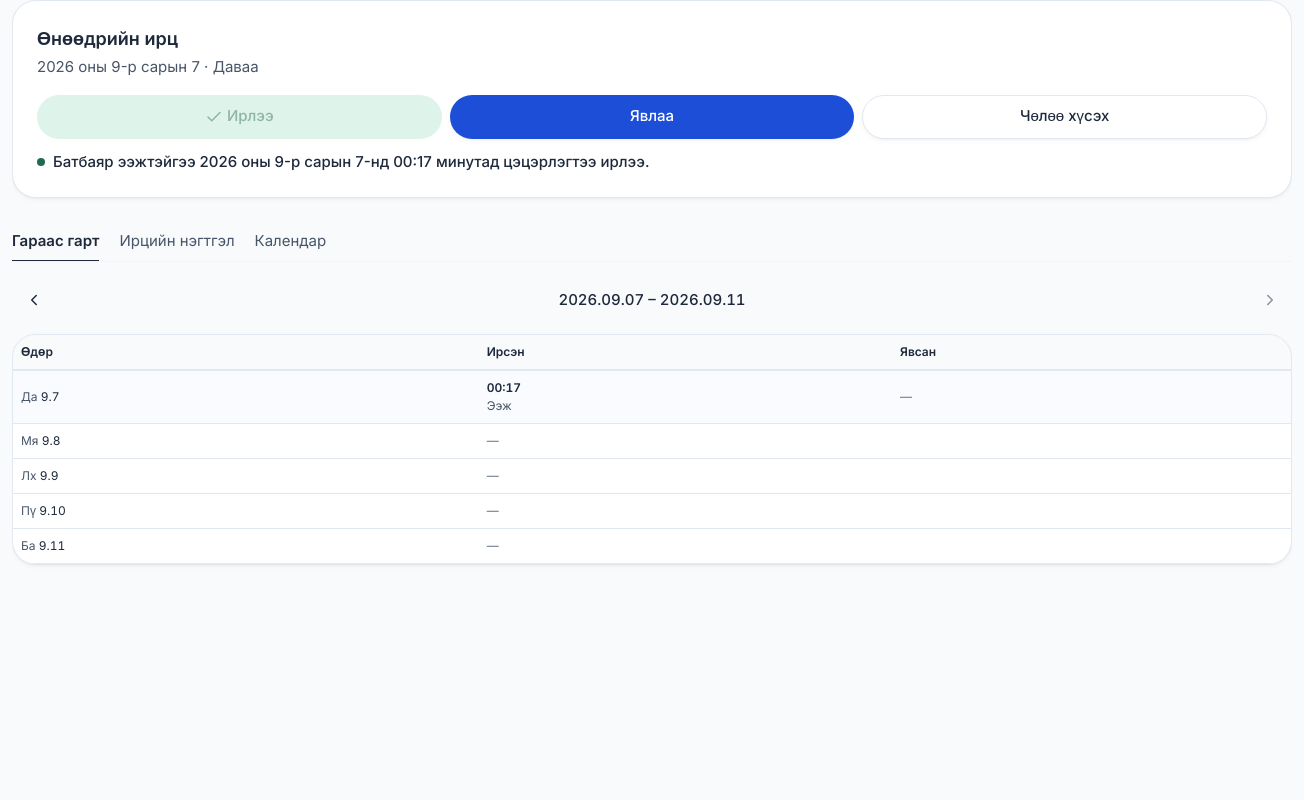
хүүхдийн ирцийн шинэ бүтэц › shows today's actions, the real summary, chart and colour calendar
Expected: the heading "Өнөөдрийн ирц" is shown, [37,28,178,49]
Expected: the text "2026 оны 9-р сарын 7 · Даваа" is shown, [37,57,259,76]
Click the tab "Ирцийн нэгтгэл" at coordinates (177, 242), box [120,222,235,262]
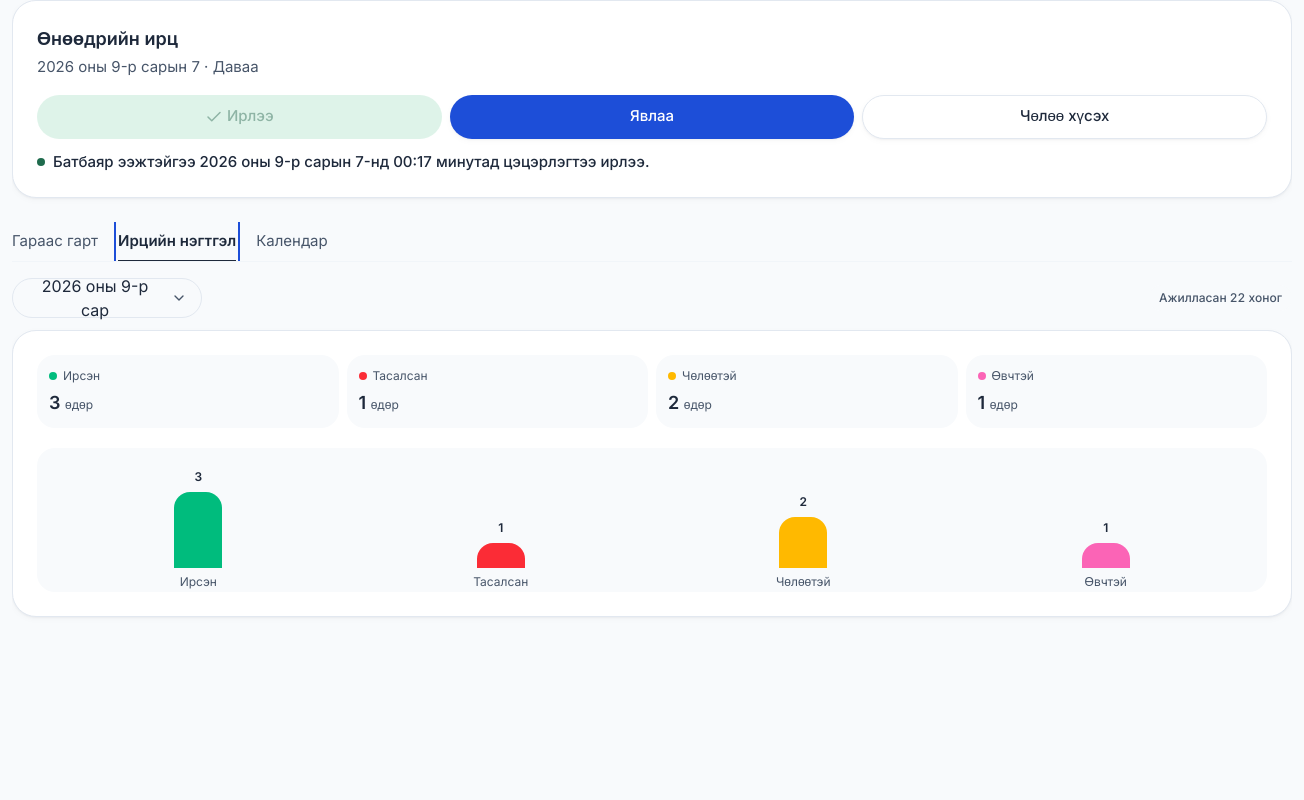
Expected: the text "Ирсэн" is shown, [49,368,100,383]
Expected: the text "Тасалсан" is shown, [358,368,428,383]
Expected: the text "Чөлөөтэй" is shown, [668,368,737,383]
Click the tab "Календар" at coordinates (292, 242), box [256,222,328,262]
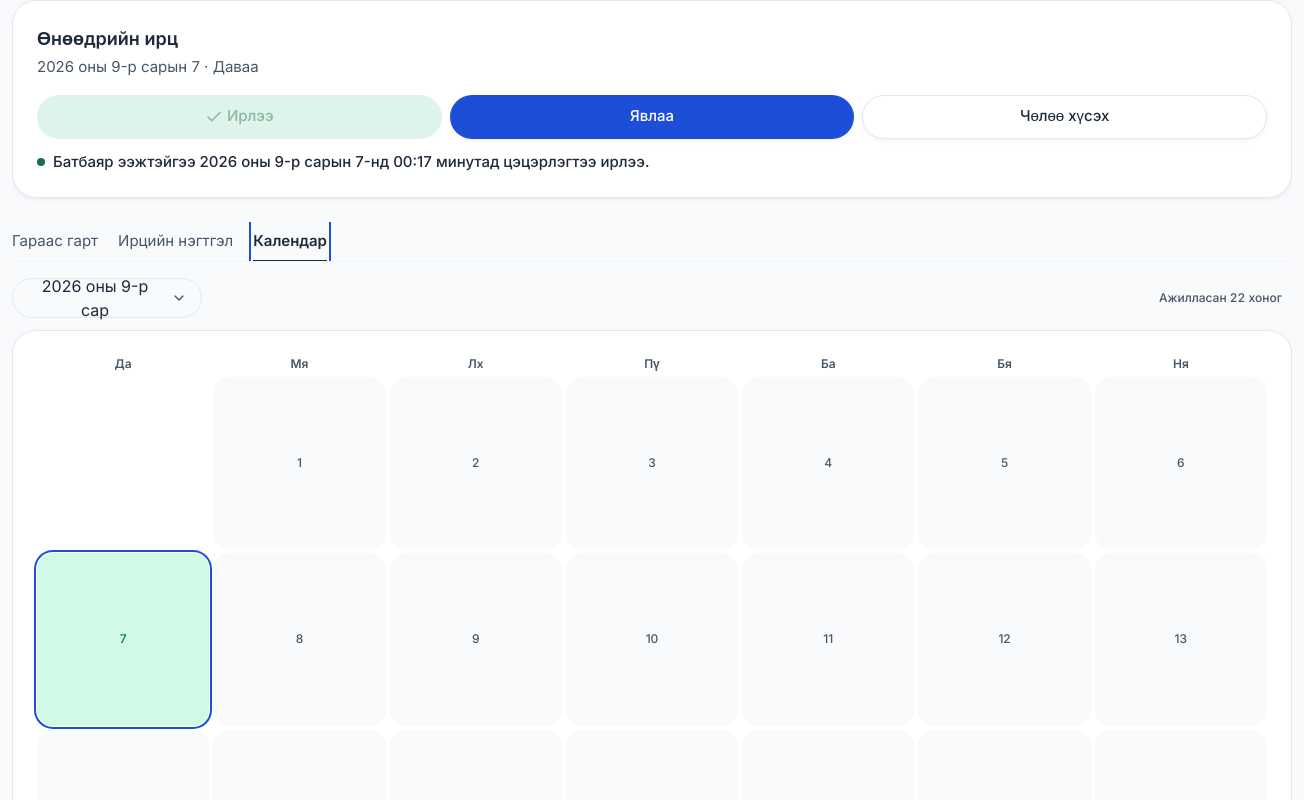
Expected: the picture named "7 — Ирсэн" is shown, [37,553,209,726]
